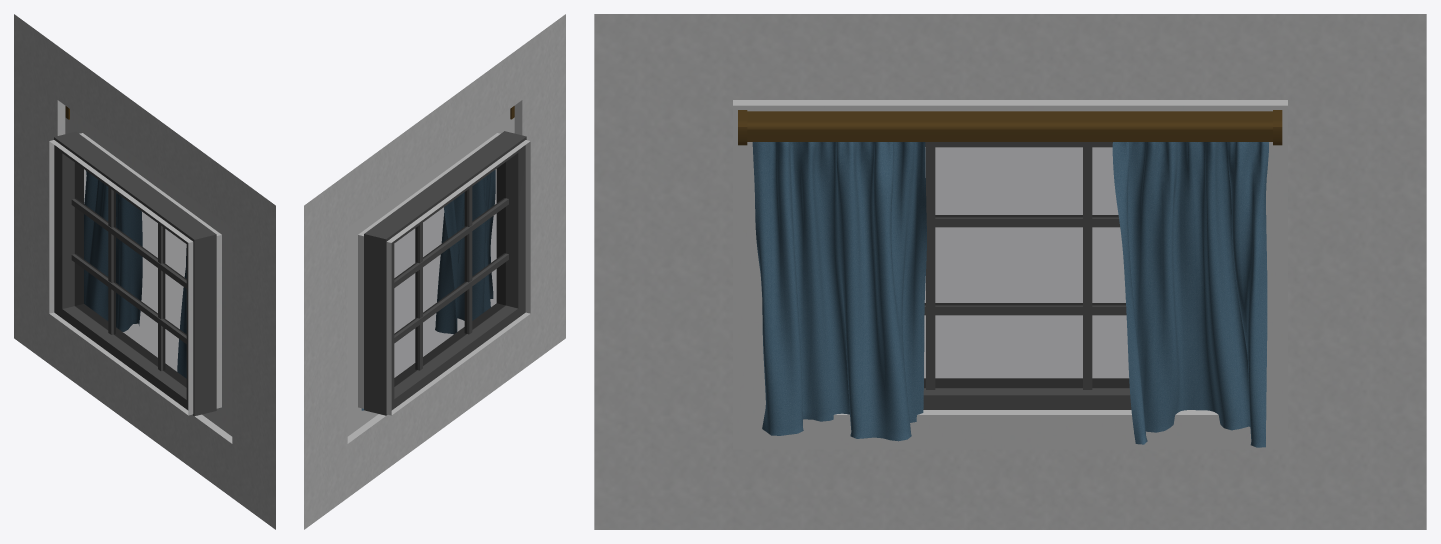
Rendered from window_curtain.glb.
3 views of the same model, side by side, from view 1: azimuth 30°, elevation 25°; view 2: azimuth 150°, elevation 25°; view 3: azimuth 270°, elevation 25° (orthographic). The views are drawn at different scales.
Visible parts, largest first — view 1: polySurface557, pCube38, pCube40, polySurface558, pCube39, polySurface559; view 2: polySurface557, pCube38, pCube40, polySurface559, pCube39; view 3: polySurface557, polySurface559, polySurface558, pCube40, pCube41, pCube39, pCube38.
Boxes of the visible parts, left/top/right/bottom form: polySurface557: left=14, top=14, right=275, bottom=529; pCube38: left=54, top=131, right=216, bottom=416; pCube40: left=75, top=163, right=186, bottom=387; polySurface558: left=84, top=171, right=142, bottom=331; pCube39: left=71, top=187, right=186, bottom=370; polySurface559: left=177, top=248, right=186, bottom=378; polySurface557: left=304, top=14, right=565, bottom=529; pCube38: left=364, top=131, right=526, bottom=415; pCube40: left=394, top=162, right=505, bottom=386; polySurface559: left=435, top=170, right=495, bottom=334; pCube39: left=394, top=187, right=508, bottom=370; polySurface557: left=594, top=14, right=1426, bottom=529; polySurface559: left=752, top=142, right=926, bottom=441; polySurface558: left=1112, top=142, right=1268, bottom=447; pCube40: left=924, top=147, right=1129, bottom=387; pCube41: left=747, top=111, right=1272, bottom=141; pCube39: left=924, top=147, right=1126, bottom=389; pCube38: left=923, top=142, right=1131, bottom=409.
Bounding box in the file's own units: 0.0186 × 0.0872 × 0.1275.
Materials: 6 (2 with a texture image).
